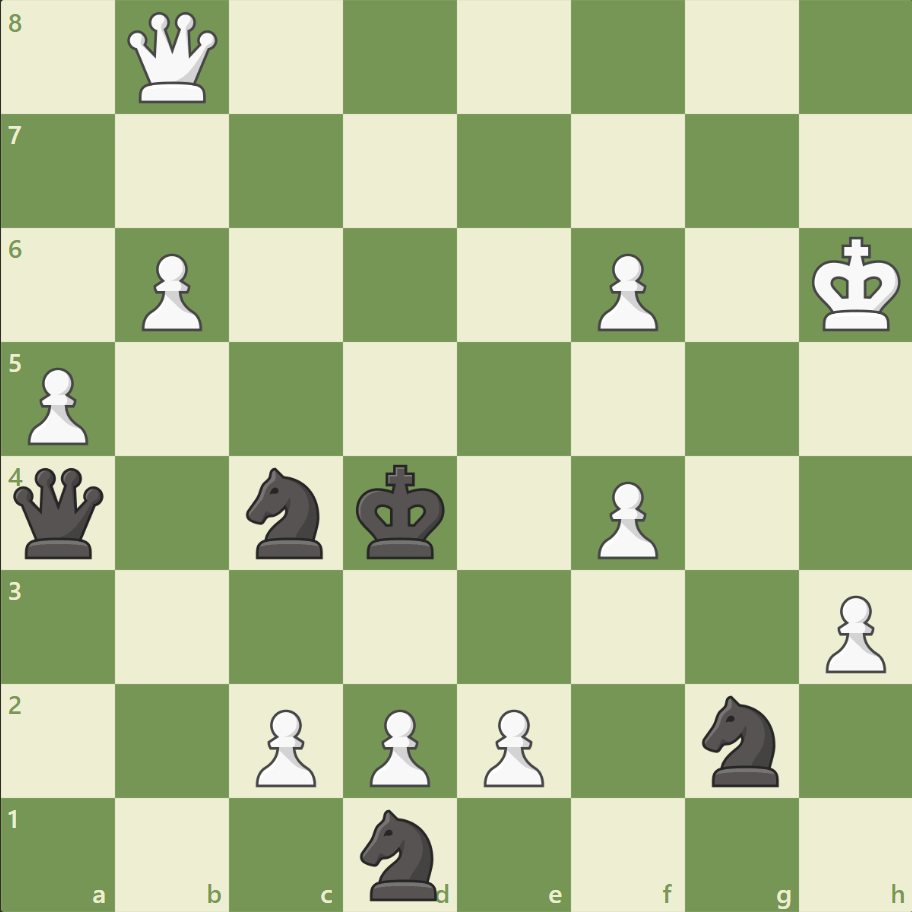K: (806, 231, 906, 339)
P: (133, 246, 208, 337), (20, 359, 95, 450), (247, 700, 322, 791), (474, 700, 549, 791), (588, 246, 662, 337), (588, 473, 662, 564), (815, 586, 889, 677), (361, 700, 435, 791)
Q: (124, 9, 223, 108)
k: (351, 458, 451, 566)
n: (351, 802, 449, 904), (238, 461, 335, 564), (692, 688, 789, 791)
q: (10, 463, 109, 562)
